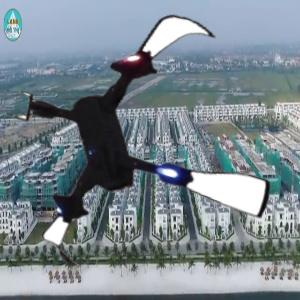drone: (5, 6, 288, 289)
